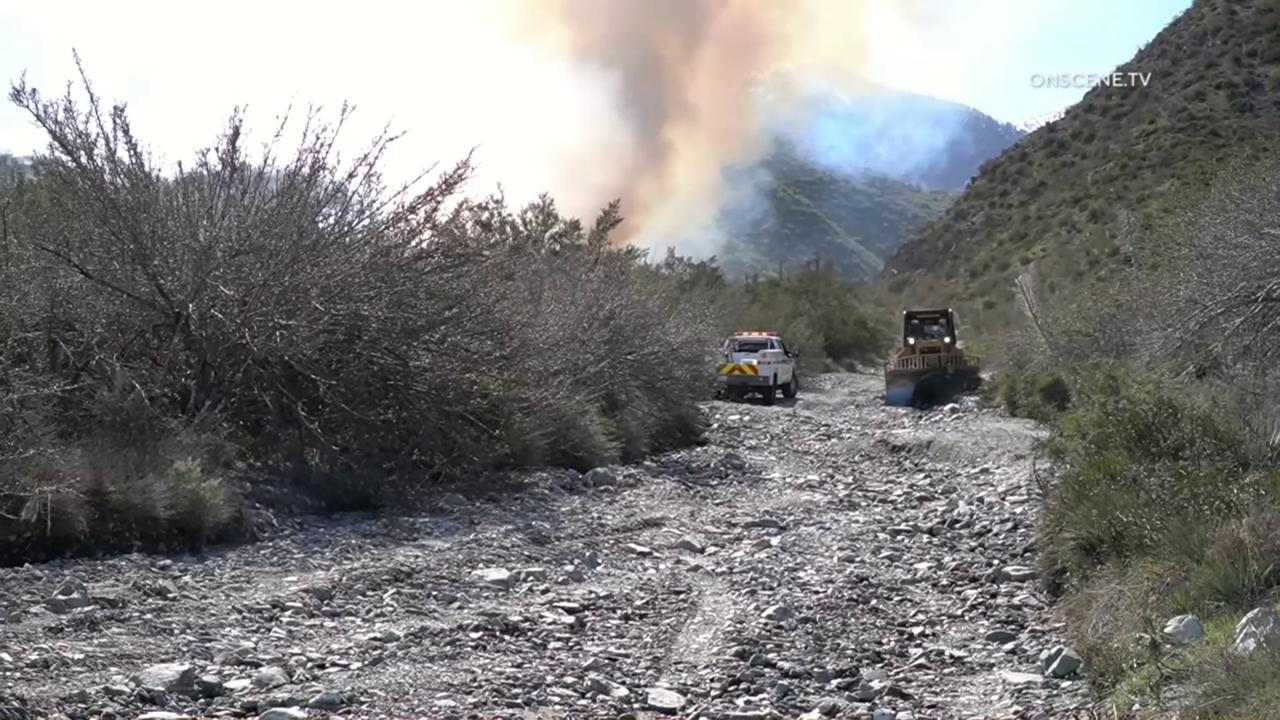smoke: (0, 0, 982, 270)
